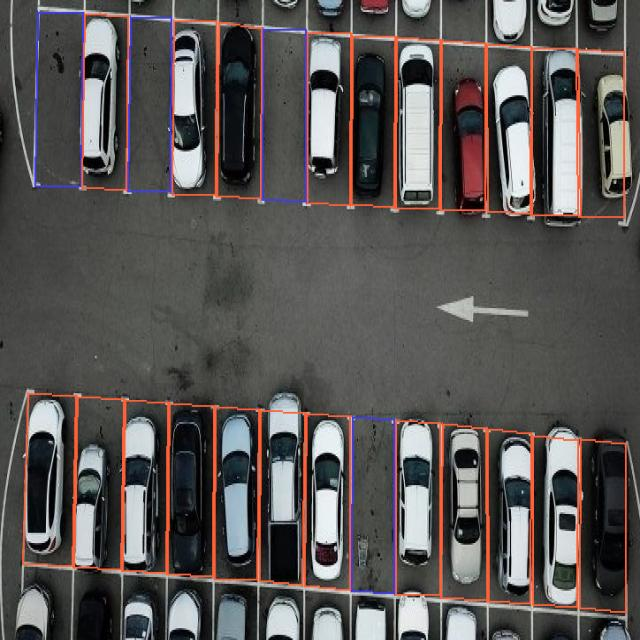space-empty: (26, 7, 86, 192), (257, 26, 309, 202), (347, 417, 397, 592), (125, 14, 174, 192)
space-occupied: (533, 429, 590, 608), (534, 46, 590, 218), (392, 38, 446, 210), (113, 396, 165, 574), (212, 21, 264, 198), (212, 408, 265, 580), (22, 393, 75, 565), (77, 10, 128, 187), (391, 419, 443, 592), (439, 424, 491, 597), (166, 17, 216, 196), (163, 403, 214, 577), (301, 412, 351, 587), (301, 31, 351, 204), (263, 418, 307, 588), (350, 41, 395, 203), (80, 394, 120, 572), (486, 48, 532, 200), (586, 438, 624, 610), (446, 44, 483, 215), (587, 54, 624, 216), (493, 439, 532, 588), (65, 567, 123, 638), (24, 561, 68, 640), (205, 580, 258, 638), (300, 588, 352, 638), (169, 580, 212, 640), (125, 576, 162, 640), (388, 596, 440, 638), (480, 604, 537, 638), (256, 592, 296, 640), (441, 597, 479, 640), (357, 600, 396, 640), (576, 618, 632, 638)
